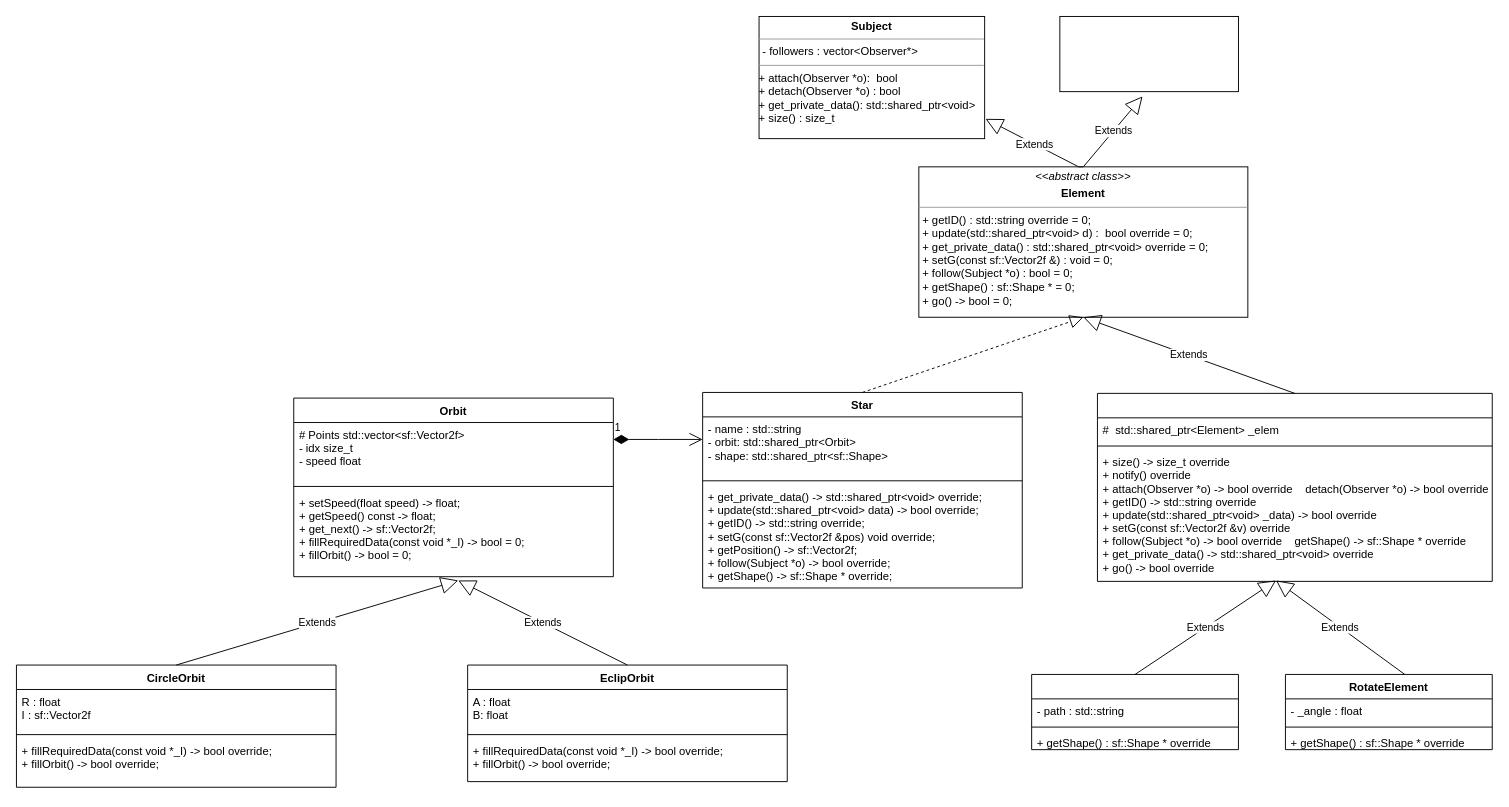
This 1509x807 diagram has some shape labels left out. Each missing label, with the box of its shape:
background: (1031, 674, 1238, 750)
DecoratorElement: (1097, 392, 1492, 581)
Observer + getID() -> std::string = 0; + update(shared_ptr<void>): bool: (1059, 16, 1238, 92)
